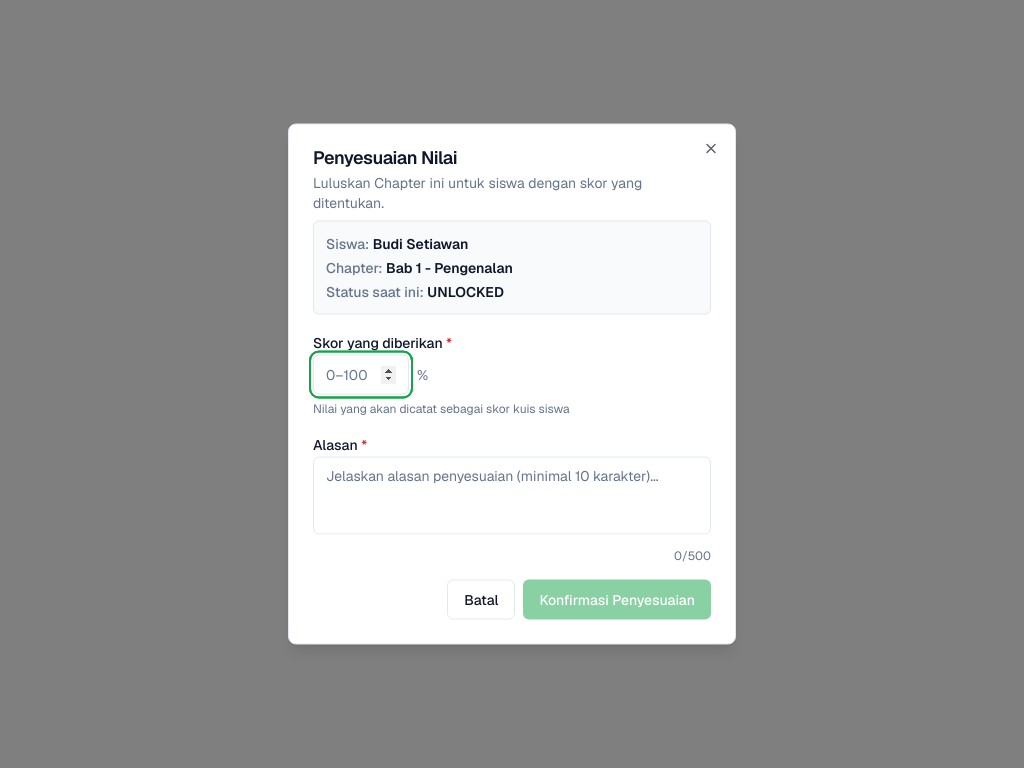
OverrideForm › shows validation error for reason less than 10 chars
In the text box labelled "Alasan *": (512, 496) left=313, top=456, right=711, bottom=534, type "pendek"
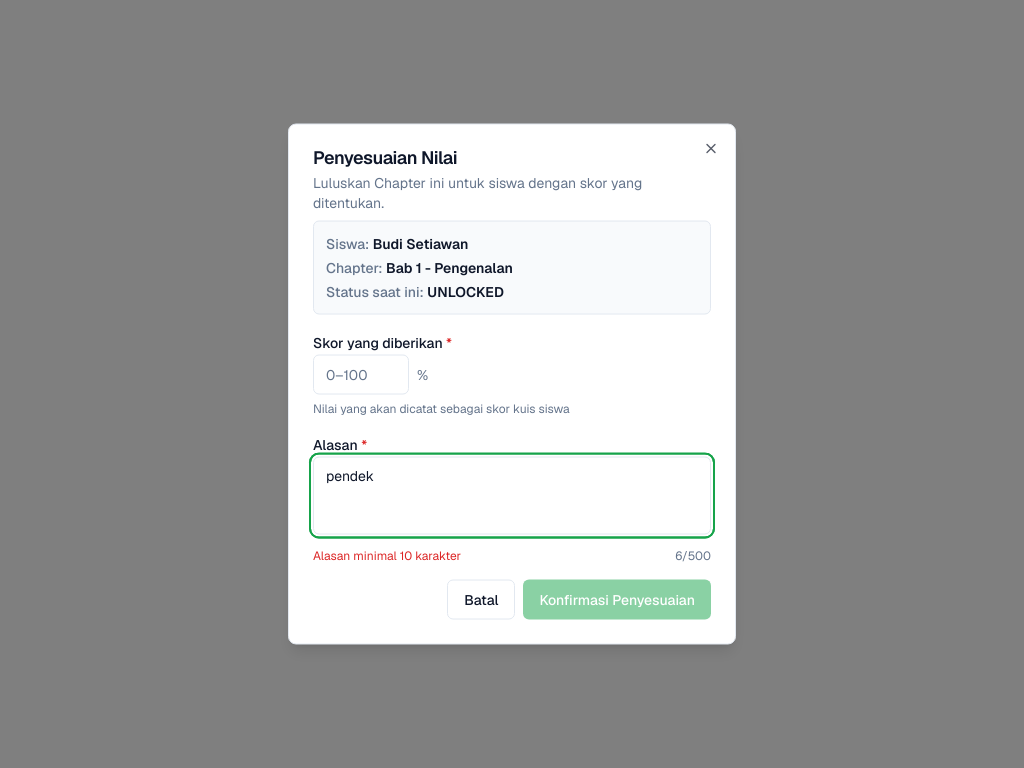
Expected: the text "Alasan minimal 10 karakter" is shown, left=313, top=548, right=461, bottom=564
